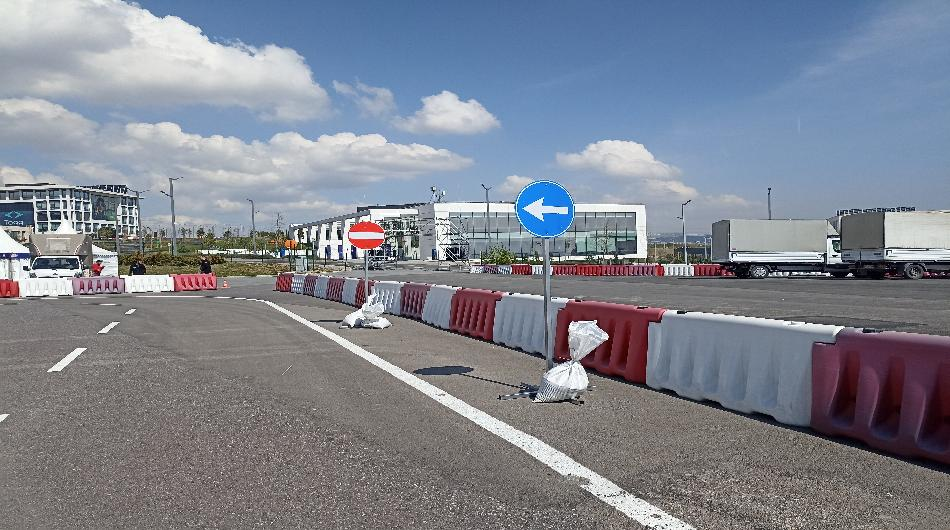girilmez: (350, 222, 385, 252)
sola_mecburi_1: (514, 178, 577, 242)
